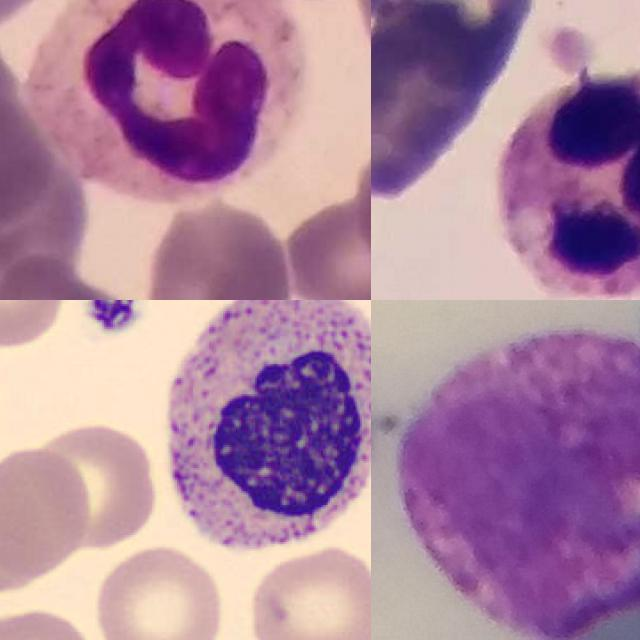Basophil: (391, 328, 640, 640)
Lymphocyte: (146, 300, 371, 567)
Neutrophil: (34, 0, 307, 201), (497, 70, 640, 299)
Platelets: (79, 300, 143, 339)
RBC: (35, 417, 163, 551), (0, 441, 93, 587), (91, 543, 226, 640), (244, 543, 371, 640), (0, 300, 68, 353)
